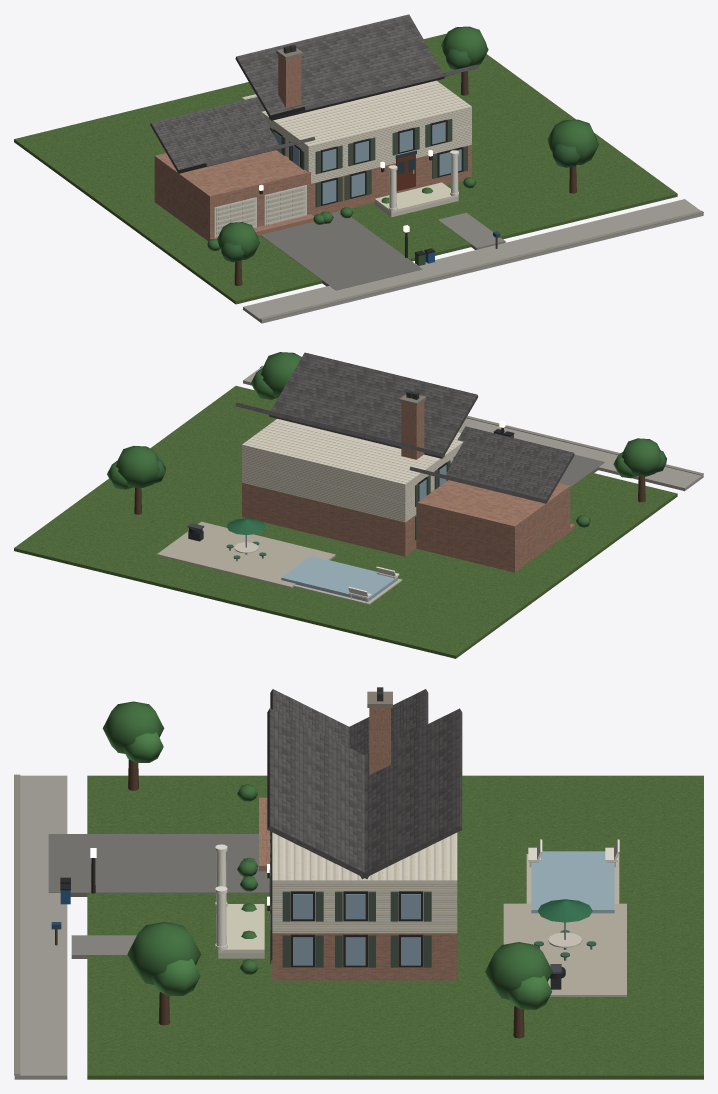
Rendered from jersey_house.glb.
3 renders of one model, top to bottom at view 1: azimuth 30°, elevation 25°; view 2: azimuth 150°, elevation 25°; view 3: azimuth 270°, elevation 25°, orthographic. The views are drawn at different scales.
Size of the model in its own units: 46.14 by 14.12 by 44.75.
50 materials, 5 textured.
